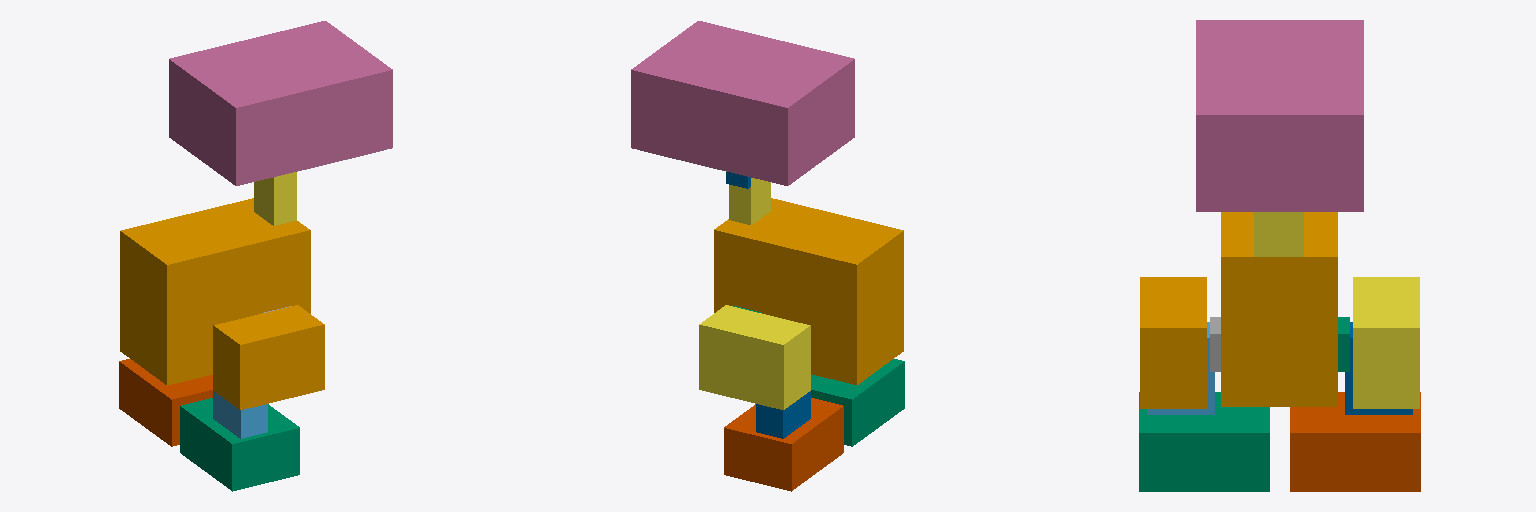
URDF robot description (microduck_look):
<?xml version="1.0"?>
<!-- Generated by scripts/run_look.py. Do not edit. Shapes adapted from the Microduck by Pollen Robotics, CC BY-NC-SA 4.0. -->
<robot name="microduck_look">
  <link name="trunk">
    <inertial><origin xyz="-0.0437145 -0.000104637 0.00966253" rpy="0 0 0"/><mass value="0.2645"/><inertia ixx="0.000315445" ixy="1.1889e-06" ixz="-8.52671e-05" iyy="0.000575352" iyz="6.49174e-07" izz="0.000525171"/></inertial>
    <visual><origin xyz="-0.0255 -0.000320131 0.00016" rpy="0 0 0"/><geometry><box size="0.14 0.0795533 0.11268"/></geometry></visual>
    <visual><origin xyz="-0.00746541 -0.0024375 0.0263447" rpy="-1.5708 -0 0"/><geometry><mesh filename="../../stl/microduck-look/body_left.stl" scale="0.001 0.001 0.001"/></geometry></visual>
    <visual><origin xyz="-0.00741729 -0.000625 0.0265446" rpy="1.5708 -0 0"/><geometry><mesh filename="../../stl/microduck-look/body_right.stl" scale="0.001 0.001 0.001"/></geometry></visual>
    <visual><origin xyz="0.0445 -0.00031069 0.00016" rpy="0 -1.5708 0"/><geometry><mesh filename="../../stl/microduck-look/trunk_frame.stl" scale="0.001 0.001 0.001"/></geometry></visual>
    <collision><origin xyz="-0.0255 -0.000320131 0.00016" rpy="0 0 0"/><geometry><box size="0.14 0.0795533 0.11268"/></geometry></collision>
  </link>
  <link name="left_hip_yaw">
    <inertial><origin xyz="-0.0105539 -0.00488419 -0.0299952" rpy="0 0 0"/><mass value="0.072"/><inertia ixx="1.60718e-05" ixy="-3.76634e-08" ixz="-2.86777e-07" iyy="2.28836e-05" iyz="-2.21111e-07" izz="1.29924e-05"/></inertial>
    <visual><origin xyz="-0.0097 -0.003825 -0.0291875" rpy="0 0 0"/><geometry><box size="0.0454 0.02865 0.058375"/></geometry></visual>
    <visual><origin xyz="-0.01095 -0.003825 0" rpy="3.14159 -0 0"/><geometry><mesh filename="../../stl/microduck-look/left_hip_yaw.stl" scale="0.001 0.001 0.001"/></geometry></visual>
    <collision><origin xyz="-0.0097 -0.003825 -0.0291875" rpy="0 0 0"/><geometry><box size="0.0454 0.02865 0.058375"/></geometry></collision>
  </link>
  <link name="left_hip_roll">
    <inertial><origin xyz="-0.00419908 0.0189253 0.00180532" rpy="0 0 0"/><mass value="0.0035"/><inertia ixx="7.0639e-07" ixy="1.93819e-07" ixz="4.41188e-08" iyy="3.7735e-07" iyz="-6.44478e-08" izz="7.69604e-07"/></inertial>
    <visual><origin xyz="-0.011125 0.0093125 0.00225" rpy="0 0 0"/><geometry><box size="0.02825 0.042625 0.0285"/></geometry></visual>
    <visual><origin xyz="0.003 0.0093125 0.00225" rpy="0 -1.5708 0"/><geometry><mesh filename="../../stl/microduck-look/left_hip_roll.stl" scale="0.001 0.001 0.001"/></geometry></visual>
    <collision><origin xyz="-0.011125 0.0093125 0.00225" rpy="0 0 0"/><geometry><box size="0.02825 0.042625 0.0285"/></geometry></collision>
  </link>
  <link name="left_thigh">
    <inertial><origin xyz="-0.0302342 0.026704 -0.00820456" rpy="0 0 0"/><mass value="0.1502"/><inertia ixx="4.90286e-05" ixy="6.77347e-08" ixz="-2.40233e-05" iyy="0.000101175" iyz="-1.56521e-07" izz="9.44913e-05"/></inertial>
    <visual><origin xyz="-0.0244975 0.0252 -0.013719" rpy="0 0 0"/><geometry><box size="0.0824951 0.0454 0.0610619"/></geometry></visual>
    <visual><origin xyz="-0.0262975 0.0479 -0.0129438" rpy="1.5708 -0 0"/><geometry><mesh filename="../../stl/microduck-look/left_thigh.stl" scale="0.001 0.001 0.001"/></geometry></visual>
    <collision><origin xyz="-0.0244975 0.0252 -0.013719" rpy="0 0 0"/><geometry><box size="0.0824951 0.0454 0.0610619"/></geometry></collision>
  </link>
  <link name="left_shin">
    <inertial><origin xyz="-3.34663e-10 0.0188606 -0.0475487" rpy="0 0 0"/><mass value="0.072"/><inertia ixx="2.52417e-05" ixy="-1.52619e-13" ixz="-4.53736e-14" iyy="1.78044e-05" iyz="1.48646e-06" izz="1.35545e-05"/></inertial>
    <visual><origin xyz="0 0.02 -0.031875" rpy="0 0 0"/><geometry><box size="0.0263 0.046 0.08775"/></geometry></visual>
    <visual><origin xyz="0 -0.003 -0.030075" rpy="-1.5708 -0 0"/><geometry><mesh filename="../../stl/microduck-look/left_shin.stl" scale="0.001 0.001 0.001"/></geometry></visual>
    <collision><origin xyz="0 0.02 -0.031875" rpy="0 0 0"/><geometry><box size="0.0263 0.046 0.08775"/></geometry></collision>
  </link>
  <link name="left_foot">
    <inertial><origin xyz="0.00970274 -0.0283647 -0.0211311" rpy="0 0 0"/><mass value="0.0461"/><inertia ixx="2.50631e-05" ixy="3.59226e-07" ixz="-3.11919e-07" iyy="1.88837e-05" iyz="-4.12856e-06" izz="3.90904e-05"/></inertial>
    <visual><origin xyz="0.00884752 -0.0414637 -0.00918061" rpy="0 0 0"/><geometry><box size="0.0662831 0.0890725 0.0441388"/></geometry></visual>
    <visual><origin xyz="0.00884752 -0.0414637 -0.03125" rpy="0 -0 0"/><geometry><mesh filename="../../stl/microduck-look/left_foot.stl" scale="0.001 0.001 0.001"/></geometry></visual>
    <collision><origin xyz="0.00884752 -0.0414637 -0.00918061" rpy="0 0 0"/><geometry><box size="0.0662831 0.0890725 0.0441388"/></geometry></collision>
  </link>
  <link name="right_hip_yaw">
    <inertial><origin xyz="-0.0105539 0.00488419 -0.0299952" rpy="0 0 0"/><mass value="0.072"/><inertia ixx="1.60718e-05" ixy="3.76634e-08" ixz="-2.86777e-07" iyy="2.28836e-05" iyz="2.21111e-07" izz="1.29924e-05"/></inertial>
    <visual><origin xyz="-0.0097 0.003825 -0.0291875" rpy="0 0 0"/><geometry><box size="0.0454 0.02865 0.058375"/></geometry></visual>
    <visual><origin xyz="-0.01095 0.003825 0" rpy="3.14159 -0 0"/><geometry><mesh filename="../../stl/microduck-look/right_hip_yaw.stl" scale="0.001 0.001 0.001"/></geometry></visual>
    <collision><origin xyz="-0.0097 0.003825 -0.0291875" rpy="0 0 0"/><geometry><box size="0.0454 0.02865 0.058375"/></geometry></collision>
  </link>
  <link name="right_hip_roll">
    <inertial><origin xyz="-0.00419908 -0.0189253 0.00180532" rpy="0 0 0"/><mass value="0.0035"/><inertia ixx="7.0639e-07" ixy="-1.93819e-07" ixz="4.41188e-08" iyy="3.7735e-07" iyz="6.44478e-08" izz="7.69604e-07"/></inertial>
    <visual><origin xyz="-0.011125 -0.0093125 0.00225" rpy="0 0 0"/><geometry><box size="0.02825 0.042625 0.0285"/></geometry></visual>
    <visual><origin xyz="0.003 -0.0093125 0.00225" rpy="0 -1.5708 0"/><geometry><mesh filename="../../stl/microduck-look/right_hip_roll.stl" scale="0.001 0.001 0.001"/></geometry></visual>
    <collision><origin xyz="-0.011125 -0.0093125 0.00225" rpy="0 0 0"/><geometry><box size="0.02825 0.042625 0.0285"/></geometry></collision>
  </link>
  <link name="right_thigh">
    <inertial><origin xyz="-0.0302342 -0.026704 -0.00820456" rpy="0 0 0"/><mass value="0.1502"/><inertia ixx="4.90286e-05" ixy="-6.77347e-08" ixz="-2.40233e-05" iyy="0.000101175" iyz="1.56521e-07" izz="9.44913e-05"/></inertial>
    <visual><origin xyz="-0.0244975 -0.0252 -0.013719" rpy="0 0 0"/><geometry><box size="0.0824951 0.0454 0.0610619"/></geometry></visual>
    <visual><origin xyz="-0.0262975 -0.0479 -0.0129438" rpy="-1.5708 -0 0"/><geometry><mesh filename="../../stl/microduck-look/right_thigh.stl" scale="0.001 0.001 0.001"/></geometry></visual>
    <collision><origin xyz="-0.0244975 -0.0252 -0.013719" rpy="0 0 0"/><geometry><box size="0.0824951 0.0454 0.0610619"/></geometry></collision>
  </link>
  <link name="right_shin">
    <inertial><origin xyz="-3.34663e-10 -0.0188606 -0.0475487" rpy="0 0 0"/><mass value="0.072"/><inertia ixx="2.52417e-05" ixy="1.52619e-13" ixz="-4.53736e-14" iyy="1.78044e-05" iyz="-1.48646e-06" izz="1.35545e-05"/></inertial>
    <visual><origin xyz="0 -0.02 -0.031875" rpy="0 0 0"/><geometry><box size="0.0263 0.046 0.08775"/></geometry></visual>
    <visual><origin xyz="0 0.003 -0.030075" rpy="1.5708 -0 0"/><geometry><mesh filename="../../stl/microduck-look/right_shin.stl" scale="0.001 0.001 0.001"/></geometry></visual>
    <collision><origin xyz="0 -0.02 -0.031875" rpy="0 0 0"/><geometry><box size="0.0263 0.046 0.08775"/></geometry></collision>
  </link>
  <link name="right_foot">
    <inertial><origin xyz="0.00970281 0.0283595 -0.0211301" rpy="0 0 0"/><mass value="0.0461"/><inertia ixx="2.50671e-05" ixy="-3.59385e-07" ixz="-3.12051e-07" iyy="1.88892e-05" iyz="4.12917e-06" izz="3.90986e-05"/></inertial>
    <visual><origin xyz="0.00884752 0.0414637 -0.00918061" rpy="0 0 0"/><geometry><box size="0.0662831 0.0890725 0.0441388"/></geometry></visual>
    <visual><origin xyz="0.00884752 0.0414637 -0.03125" rpy="0 -0 0"/><geometry><mesh filename="../../stl/microduck-look/right_foot.stl" scale="0.001 0.001 0.001"/></geometry></visual>
    <collision><origin xyz="0.00884752 0.0414637 -0.00918061" rpy="0 0 0"/><geometry><box size="0.0662831 0.0890725 0.0441388"/></geometry></collision>
  </link>
  <link name="neck">
    <inertial><origin xyz="3.94666e-10 -0.0201043 0.0312552" rpy="0 0 0"/><mass value="0.0655"/><inertia ixx="4.83465e-05" ixy="1.33897e-13" ixz="2.19072e-16" iyy="4.52124e-05" iyz="5.01662e-09" izz="7.04715e-06"/></inertial>
    <visual><origin xyz="0 -0.019 0.03125" rpy="0 0 0"/><geometry><box size="0.0223 0.034 0.088"/></geometry></visual>
    <visual><origin xyz="0 -0.036 0.03125" rpy="-1.5708 -0 0"/><geometry><mesh filename="../../stl/microduck-look/neck.stl" scale="0.001 0.001 0.001"/></geometry></visual>
    <collision><origin xyz="0 -0.019 0.03125" rpy="0 0 0"/><geometry><box size="0.0223 0.034 0.088"/></geometry></collision>
  </link>
  <link name="head_pitch">
    <inertial><origin xyz="-1.94617e-11 -0.00650475 0.0112249" rpy="0 0 0"/><mass value="0.0024"/><inertia ixx="3.71125e-07" ixy="2.47063e-16" ixz="-6.84522e-16" iyy="2.4432e-07" iyz="1.06146e-07" izz="3.01866e-07"/></inertial>
    <visual><origin xyz="0 -0.0120625 0.003875" rpy="0 0 0"/><geometry><box size="0.022 0.030125 0.02875"/></geometry></visual>
    <visual><origin xyz="0 -0.0120625 0.01825" rpy="3.14159 -0 0"/><geometry><mesh filename="../../stl/microduck-look/head_pitch_yoke.stl" scale="0.001 0.001 0.001"/></geometry></visual>
    <collision><origin xyz="0 -0.0120625 0.003875" rpy="0 0 0"/><geometry><box size="0.022 0.030125 0.02875"/></geometry></collision>
  </link>
  <link name="head_yaw">
    <inertial><origin xyz="0.00473717 1.09199e-19 0.0192433" rpy="0 0 0"/><mass value="0.0148"/><inertia ixx="1.3492e-06" ixy="-1.78114e-23" ixz="5.51584e-08" iyy="2.95102e-06" iyz="1.21731e-22" izz="2.27557e-06"/></inertial>
    <visual><origin xyz="0.0027375 0 0.01745" rpy="0 0 0"/><geometry><box size="0.050225 0.0183 0.0309"/></geometry></visual>
    <visual><origin xyz="0.0027375 0 0.0105" rpy="0 -0 0"/><geometry><mesh filename="../../stl/microduck-look/head_yaw_carrier.stl" scale="0.001 0.001 0.001"/></geometry></visual>
    <collision><origin xyz="0.0027375 0 0.01745" rpy="0 0 0"/><geometry><box size="0.050225 0.0183 0.0309"/></geometry></collision>
  </link>
  <link name="head">
    <inertial><origin xyz="0.0343626 0.000362726 0.00869859" rpy="0 0 0"/><mass value="0.1686"/><inertia ixx="0.000219407" ixy="7.42326e-07" ixz="-5.3285e-05" iyy="0.000431994" iyz="-5.53918e-08" izz="0.000515411"/></inertial>
    <visual><origin xyz="0.0285539 -1.13e-06 0.0154258" rpy="0 0 0"/><geometry><box size="0.153358 0.114133 0.0730767"/></geometry></visual>
    <visual><origin xyz="0.0247251 3e-08 -0.0211126" rpy="0 -0 0"/><geometry><mesh filename="../../stl/microduck-look/head_base.stl" scale="0.001 0.001 0.001"/></geometry></visual>
    <visual><origin xyz="0.105233 -1.13e-06 0.0231784" rpy="0 -1.5708 0"/><geometry><mesh filename="../../stl/microduck-look/head_top.stl" scale="0.001 0.001 0.001"/></geometry></visual>
    <visual><origin xyz="0.101625 -0.00011422 0.021259" rpy="0 -1.5708 0"/><geometry><mesh filename="../../stl/microduck-look/head_face.stl" scale="0.001 0.001 0.001"/></geometry></visual>
    <visual><origin xyz="0.0746402 2e-08 -0.0114363" rpy="0 -0 0"/><geometry><mesh filename="../../stl/microduck-look/beak_top.stl" scale="0.001 0.001 0.001"/></geometry></visual>
    <collision><origin xyz="0.0285539 -1.13e-06 0.0154258" rpy="0 0 0"/><geometry><box size="0.153358 0.114133 0.0730767"/></geometry></collision>
  </link>
  <link name="beak">
    <inertial><origin xyz="0.0485263 -0.0487885 -0.0180303" rpy="0 0 0"/><mass value="0.0294"/><inertia ixx="3.79713e-05" ixy="-9.14453e-07" ixz="1.92647e-06" iyy="1.15204e-05" iyz="3.30036e-07" izz="4.737e-05"/></inertial>
    <visual><origin xyz="0.0315442 -0.048125 -0.00725277" rpy="0 0 0"/><geometry><box size="0.085396 0.113609 0.0365206"/></geometry></visual>
    <visual><origin xyz="0.0315442 -0.048125 -0.0255131" rpy="0 -0 0"/><geometry><mesh filename="../../stl/microduck-look/beak_jaw.stl" scale="0.001 0.001 0.001"/></geometry></visual>
    <collision><origin xyz="0.0315442 -0.048125 -0.00725277" rpy="0 0 0"/><geometry><box size="0.085396 0.113609 0.0365206"/></geometry></collision>
  </link>
  <joint name="left_hip_yaw" type="revolute">
    <parent link="trunk"/><child link="left_hip_yaw"/>
    <origin xyz="0.0075 0.021875 -0.00625" rpy="0 0 0"/><axis xyz="0 0 -1"/>
    <limit lower="-0.15708" upper="0.523599" effort="0.304" velocity="7.48048"/>
    <dynamics damping="0.040639" friction="0.02"/>
  </joint>
  <joint name="left_hip_roll" type="revolute">
    <parent link="left_hip_yaw"/><child link="left_hip_roll"/>
    <origin xyz="0.0155 -0.005 -0.020125" rpy="0 0 0"/><axis xyz="1 0 0"/>
    <limit lower="-0.0523599" upper="0.383972" effort="1.196" velocity="5.23599"/>
    <dynamics damping="0.22842" friction="0.02"/>
  </joint>
  <joint name="left_hip_pitch" type="revolute">
    <parent link="left_hip_roll"/><child link="left_thigh"/>
    <origin xyz="-0.01325 0.030625 0.0045" rpy="0 0 0"/><axis xyz="0 1 0"/>
    <limit lower="-1.55334" upper="1.53589" effort="1.196" velocity="5.23599"/>
    <dynamics damping="0.22842" friction="0.02"/>
  </joint>
  <joint name="left_knee" type="revolute">
    <parent link="left_thigh"/><child link="left_shin"/>
    <origin xyz="-0.0495 0 -0.0275" rpy="0 0 0"/><axis xyz="0 -1 0"/>
    <limit lower="-1.53589" upper="1.44862" effort="1.196" velocity="5.23599"/>
    <dynamics damping="0.22842" friction="0.02"/>
  </joint>
  <joint name="left_ankle" type="revolute">
    <parent link="left_shin"/><child link="left_foot"/>
    <origin xyz="0 0.0455 -0.059" rpy="0 0 0"/><axis xyz="0 1 0"/>
    <limit lower="-1.29154" upper="1.22173" effort="1.196" velocity="5.23599"/>
    <dynamics damping="0.22842" friction="0.02"/>
  </joint>
  <joint name="right_hip_yaw" type="revolute">
    <parent link="trunk"/><child link="right_hip_yaw"/>
    <origin xyz="0.0075 -0.021875 -0.00625" rpy="0 0 0"/><axis xyz="0 0 -1"/>
    <limit lower="-0.523599" upper="0.15708" effort="0.304" velocity="7.48048"/>
    <dynamics damping="0.040639" friction="0.02"/>
  </joint>
  <joint name="right_hip_roll" type="revolute">
    <parent link="right_hip_yaw"/><child link="right_hip_roll"/>
    <origin xyz="0.0155 0.005 -0.020125" rpy="0 0 0"/><axis xyz="1 0 0"/>
    <limit lower="-0.383972" upper="0.0523599" effort="1.196" velocity="5.23599"/>
    <dynamics damping="0.22842" friction="0.02"/>
  </joint>
  <joint name="right_hip_pitch" type="revolute">
    <parent link="right_hip_roll"/><child link="right_thigh"/>
    <origin xyz="-0.01325 -0.030625 0.0045" rpy="0 0 0"/><axis xyz="0 -1 0"/>
    <limit lower="-1.53589" upper="1.55334" effort="1.196" velocity="5.23599"/>
    <dynamics damping="0.22842" friction="0.02"/>
  </joint>
  <joint name="right_knee" type="revolute">
    <parent link="right_thigh"/><child link="right_shin"/>
    <origin xyz="-0.0495 0 -0.0275" rpy="0 0 0"/><axis xyz="0 1 0"/>
    <limit lower="-1.44862" upper="1.53589" effort="1.196" velocity="5.23599"/>
    <dynamics damping="0.22842" friction="0.02"/>
  </joint>
  <joint name="right_ankle" type="revolute">
    <parent link="right_shin"/><child link="right_foot"/>
    <origin xyz="0 -0.0455 -0.059" rpy="0 0 0"/><axis xyz="0 -1 0"/>
    <limit lower="-1.22173" upper="1.29154" effort="1.196" velocity="5.23599"/>
    <dynamics damping="0.22842" friction="0.02"/>
  </joint>
  <joint name="neck_pitch" type="revolute">
    <parent link="trunk"/><child link="neck"/>
    <origin xyz="0.0325 0.018125 0.0405" rpy="0 0 0"/><axis xyz="0 -1 0"/>
    <limit lower="-1.5708" upper="0.680678" effort="0.304" velocity="7.48048"/>
    <dynamics damping="0.040639" friction="0.02"/>
  </joint>
  <joint name="head_pitch" type="revolute">
    <parent link="neck"/><child link="head_pitch"/>
    <origin xyz="0 0 0.0625" rpy="0 0 0"/><axis xyz="0 1 0"/>
    <limit lower="-1.09956" upper="1.5708" effort="0.304" velocity="7.48048"/>
    <dynamics damping="0.040639" friction="0.02"/>
  </joint>
  <joint name="head_yaw" type="revolute">
    <parent link="head_pitch"/><child link="head_yaw"/>
    <origin xyz="0 -0.018125 0.01825" rpy="0 0 0"/><axis xyz="0 0 1"/>
    <limit lower="-1.5708" upper="1.5708" effort="0.157" velocity="10.472"/>
    <dynamics damping="0.014992" friction="0.02"/>
  </joint>
  <joint name="head_roll" type="revolute">
    <parent link="head_yaw"/><child link="head"/>
    <origin xyz="-0.022375 0 0.02325" rpy="0 0 0"/><axis xyz="-1 0 0"/>
    <limit lower="-0.436332" upper="0.436332" effort="0.157" velocity="10.472"/>
    <dynamics damping="0.014992" friction="0.02"/>
  </joint>
  <joint name="beak" type="revolute">
    <parent link="head"/><child link="beak"/>
    <origin xyz="0.0225 0.048125 0.004" rpy="0 0 0"/><axis xyz="0 1 0"/>
    <limit lower="0" upper="0.523599" effort="0.157" velocity="10.472"/>
    <dynamics damping="0.014992" friction="0.02"/>
  </joint>
</robot>

--- Render facts (derived) ---
The picture shows the robot from 3 angles, left to right: view 1: azimuth 30°, elevation 25°; view 2: azimuth 150°, elevation 25°; view 3: azimuth 270°, elevation 25°; orthographic projection.
Robot: microduck_look — 16 links, 15 joints (15 revolute); root link trunk; default pose: every joint at zero.
Visible links, largest first — view 1: head, trunk, right_thigh, right_foot, left_foot, neck, right_shin; view 2: head, trunk, left_thigh, left_foot, right_foot, left_shin, neck; view 3: head, trunk, left_foot, right_foot, left_thigh, right_thigh, neck, left_shin, right_shin, left_hip_roll, right_hip_roll.
Link boxes in pixels (x1=…): head: x1=169, y1=21, x2=392, y2=185; trunk: x1=120, y1=198, x2=310, y2=385; right_thigh: x1=213, y1=305, x2=324, y2=409; right_foot: x1=180, y1=398, x2=299, y2=491; left_foot: x1=119, y1=359, x2=212, y2=446; neck: x1=254, y1=172, x2=296, y2=225; right_shin: x1=213, y1=391, x2=267, y2=438; head: x1=631, y1=21, x2=854, y2=185; trunk: x1=714, y1=198, x2=903, y2=384; left_thigh: x1=699, y1=305, x2=810, y2=409; left_foot: x1=724, y1=398, x2=843, y2=491; right_foot: x1=811, y1=359, x2=904, y2=446; left_shin: x1=756, y1=391, x2=810, y2=438; neck: x1=729, y1=178, x2=770, y2=224; head: x1=1196, y1=20, x2=1363, y2=211; trunk: x1=1221, y1=212, x2=1337, y2=406; left_foot: x1=1290, y1=392, x2=1420, y2=491; right_foot: x1=1139, y1=392, x2=1269, y2=491; left_thigh: x1=1353, y1=277, x2=1419, y2=408; right_thigh: x1=1140, y1=277, x2=1206, y2=408; neck: x1=1254, y1=212, x2=1303, y2=256; left_shin: x1=1345, y1=322, x2=1412, y2=414; right_shin: x1=1147, y1=322, x2=1214, y2=414; left_hip_roll: x1=1338, y1=317, x2=1349, y2=371; right_hip_roll: x1=1210, y1=317, x2=1220, y2=371.
Bounding box of the posed robot: 0.2109 × 0.1921 × 0.3361 m (x, y, z).
Meshes: 21 distinct files referenced, 21 mesh visuals loaded (21 binary STL).
